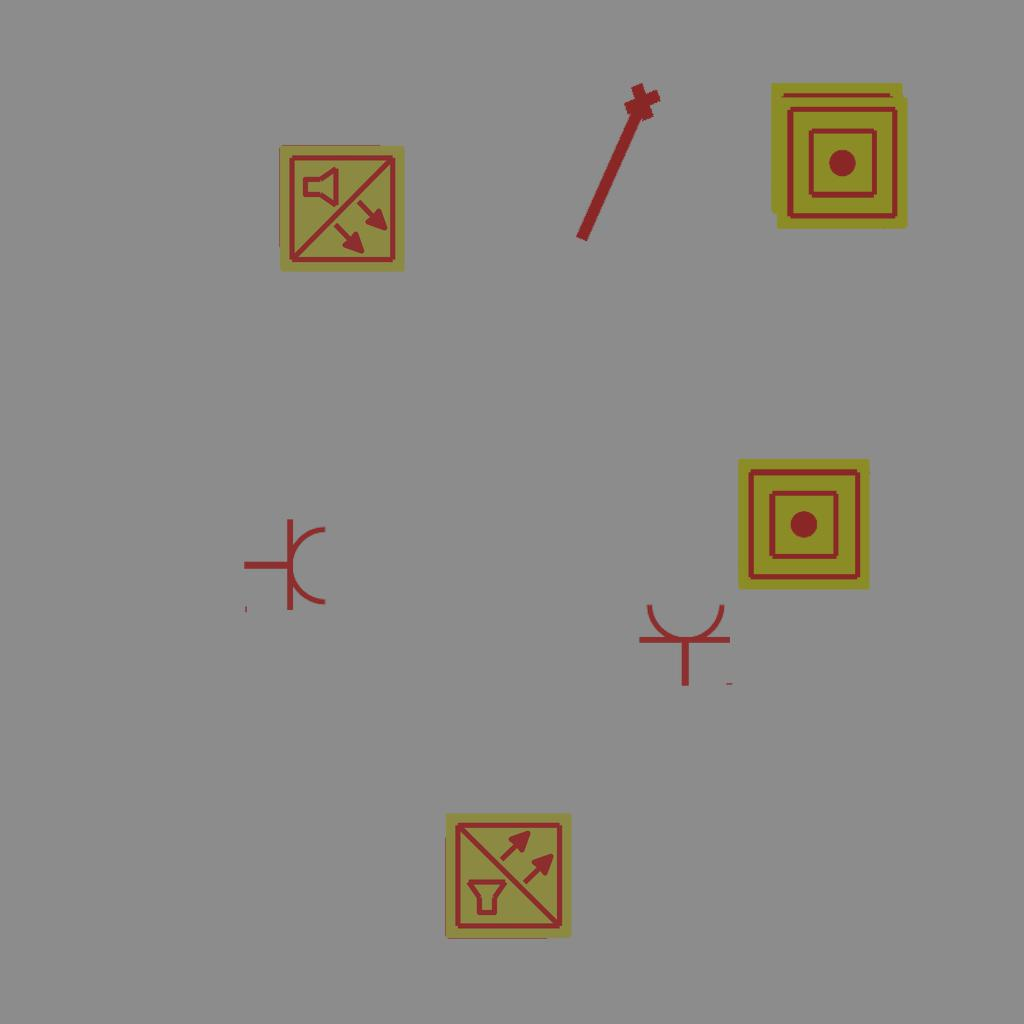ASR_Ansaugoeffnung: (560, 75, 674, 255)
NAM-Nichtautomatischer_Melder: (738, 458, 870, 590), (771, 82, 903, 214), (776, 97, 908, 229)
OKW_Multisensormelder_(Kombination_optischer_Rauch-Kahlenmonoxid_Waerme-Melder): (276, 143, 408, 275), (443, 810, 575, 942)
Schukosteckdose_einfach: (242, 517, 329, 617), (637, 601, 737, 688)
